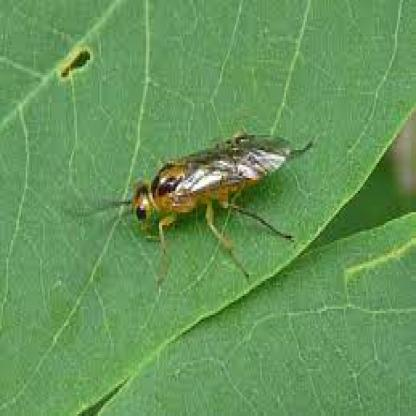sawfly: (77, 125, 319, 287)
